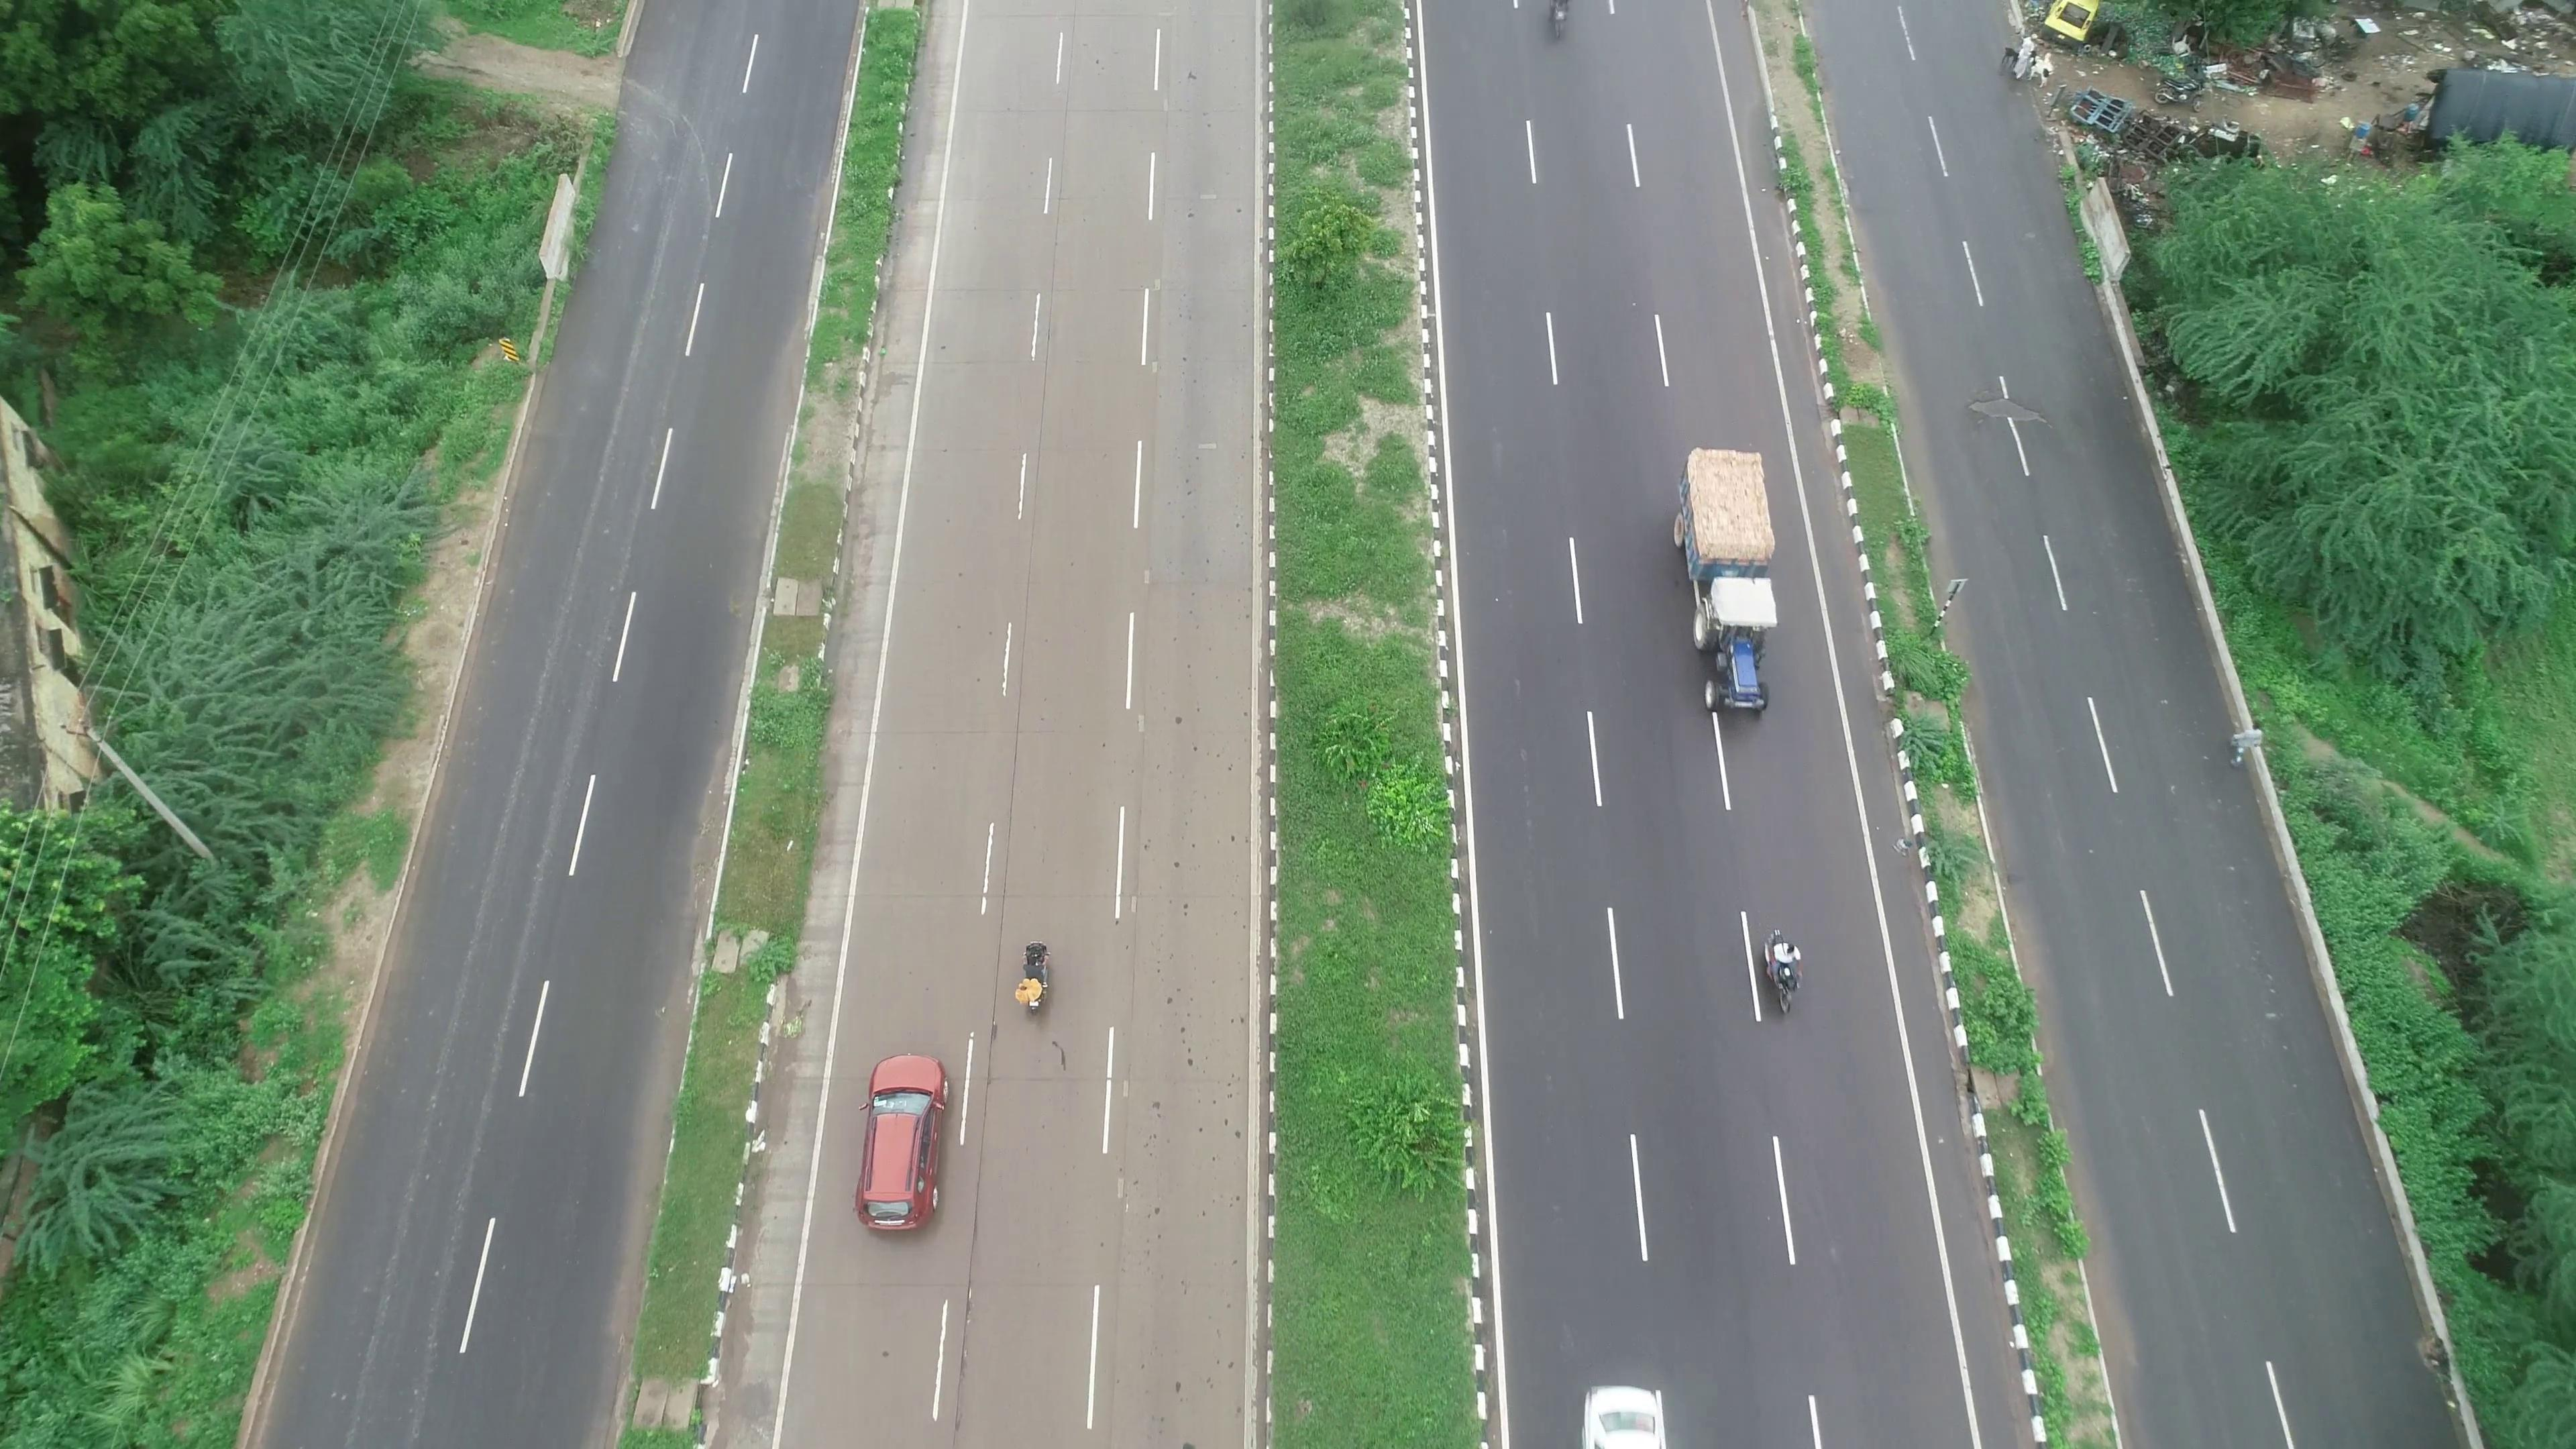Potholes: (1937, 366, 2054, 442)
